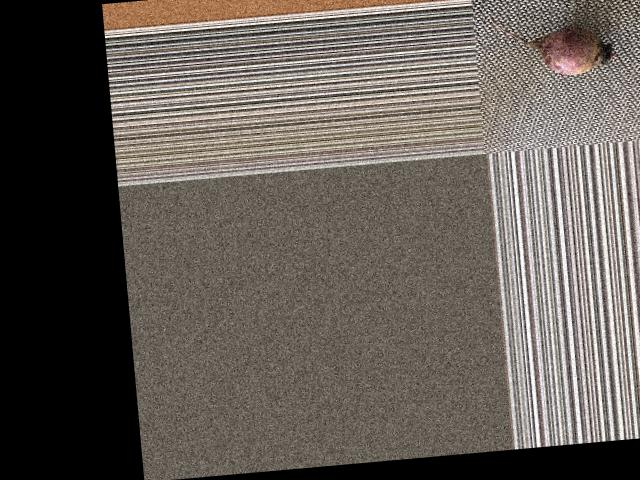beet: (487, 3, 618, 80)
